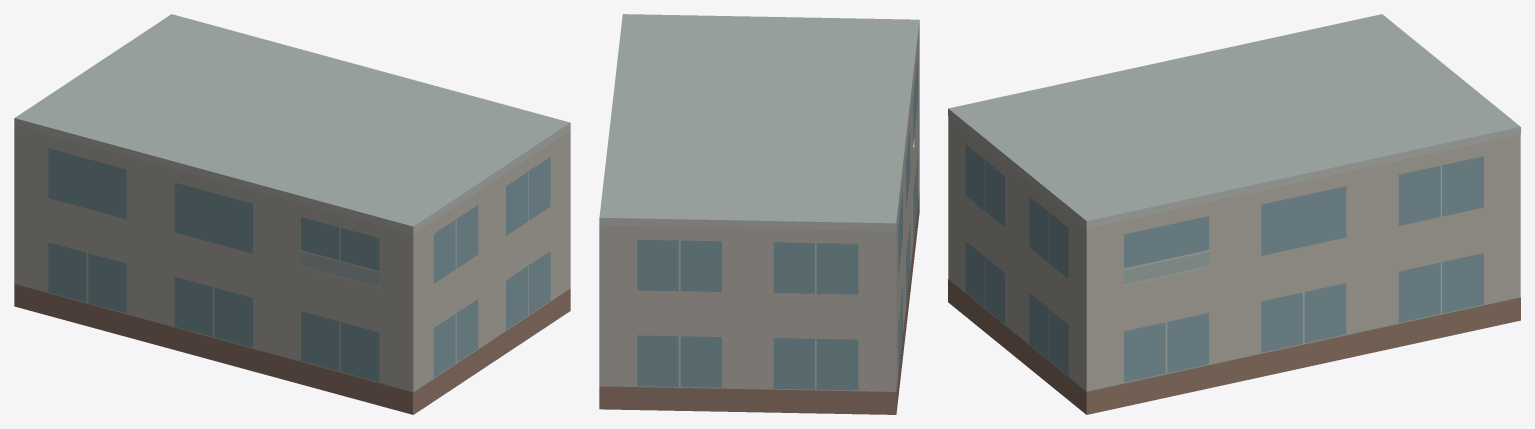
Rendered from survey-upis-32949184.glb.
The picture shows the model from 3 angles, left to right: view 1: azimuth 30°, elevation 25°; view 2: azimuth 150°, elevation 25°; view 3: azimuth 270°, elevation 25°; orthographic projection. The views are drawn at different scales.
Parts seen in each view (by area): view 1: survey-upis-32949184.tmp; view 2: survey-upis-32949184.tmp; view 3: survey-upis-32949184.tmp.
Boxes of the visible parts, box(x1,y1,x2,y2) form: survey-upis-32949184.tmp: box(14, 14, 570, 414); survey-upis-32949184.tmp: box(599, 14, 919, 414); survey-upis-32949184.tmp: box(948, 14, 1520, 414).
Bounding box in the file's own units: 13.99 × 6.1 × 16.35.
